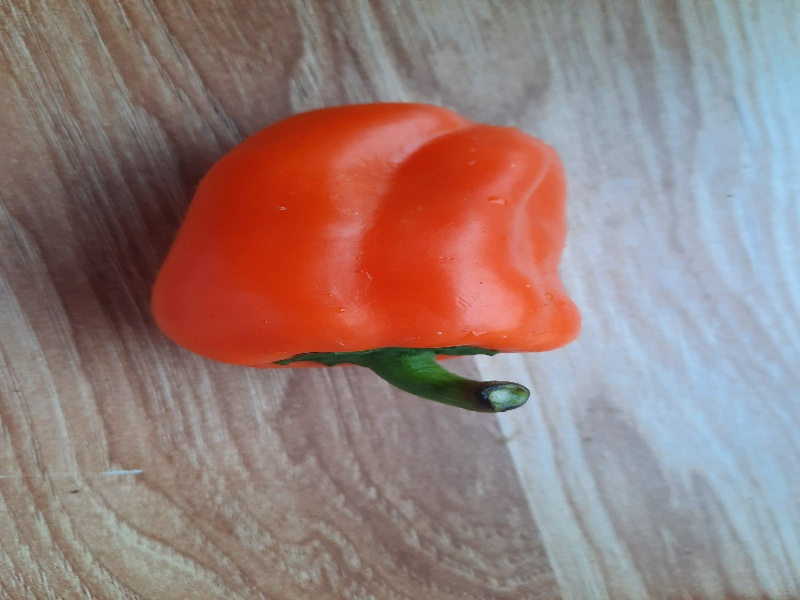vege: (152, 89, 578, 438)
